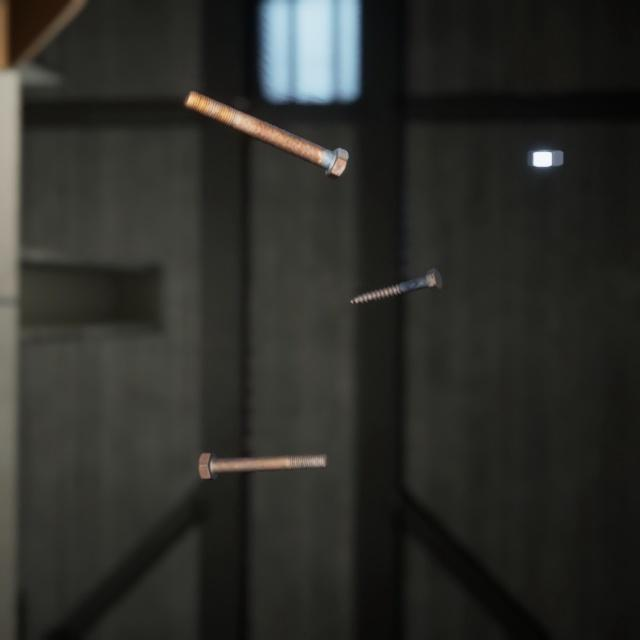bolt: (179, 73, 352, 170), (193, 427, 333, 463), (345, 247, 447, 292)
nut: (522, 131, 567, 158)
